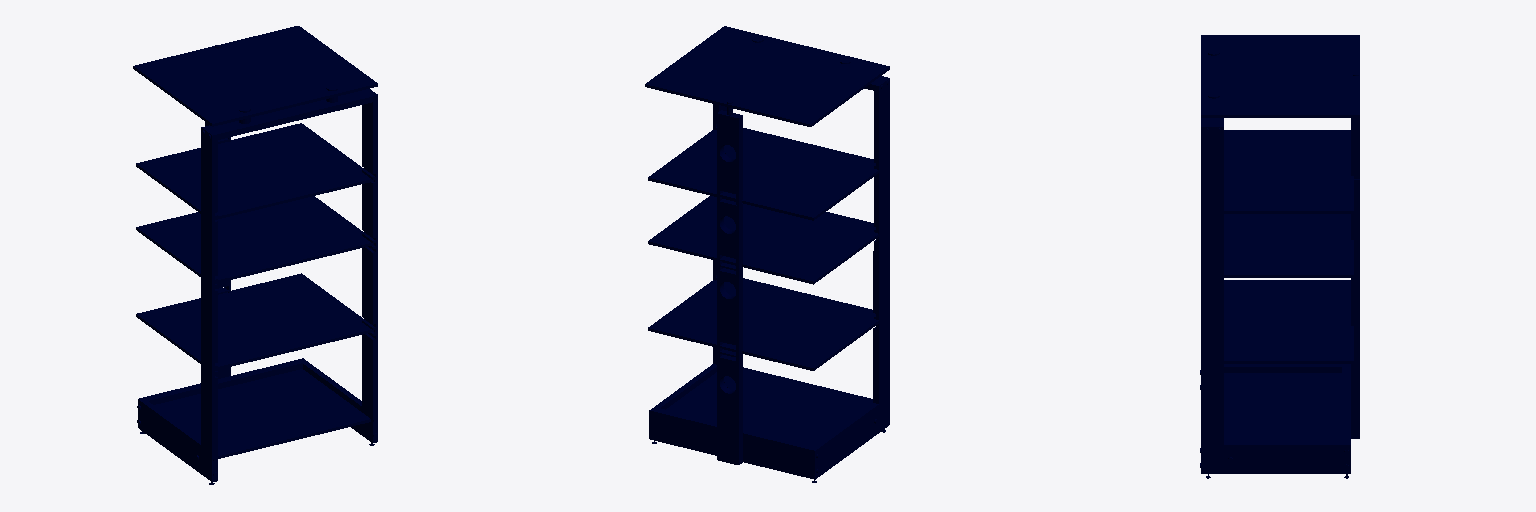
3 views of the same model, side by side, from view 1: azimuth 30°, elevation 25°; view 2: azimuth 150°, elevation 25°; view 3: azimuth 270°, elevation 25° (orthographic).
Visible parts, largest first — view 1: 货架6; view 2: 货架6; view 3: 货架6.
Part boxes in pixels (left/top/right/bottom): 货架6: left=133, top=26, right=377, bottom=484; 货架6: left=645, top=26, right=889, bottom=482; 货架6: left=1200, top=35, right=1359, bottom=478.
Size of the model in its own units: 4.88 by 10.11 by 4.03.